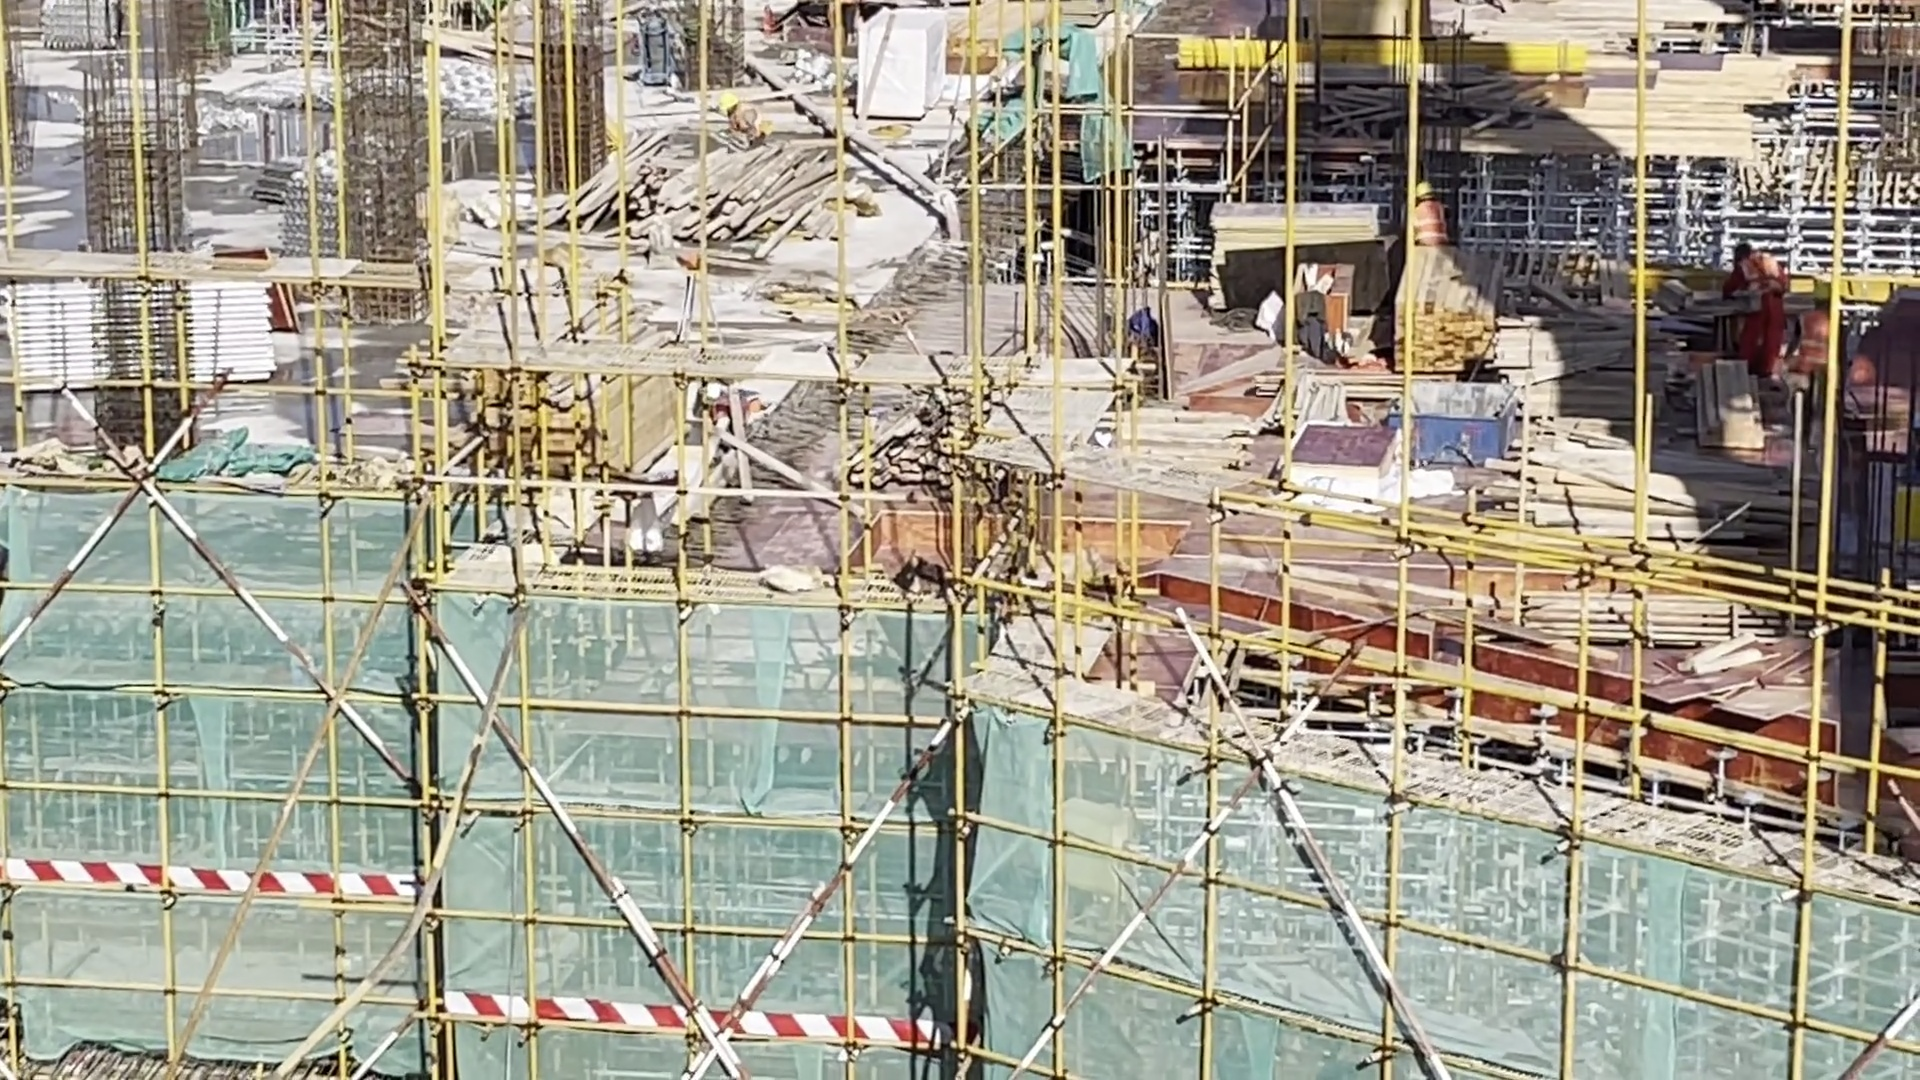board: (1663, 619, 1817, 733)
helmet: (713, 86, 740, 120), (1807, 278, 1834, 308), (699, 379, 723, 401), (1411, 185, 1435, 206)
person: (1719, 237, 1791, 384), (1795, 286, 1846, 399), (685, 379, 776, 442), (1405, 179, 1457, 269)
scaffold: (12, 282, 284, 397), (264, 157, 358, 263)
vest: (1730, 251, 1784, 313), (1798, 308, 1829, 379), (1411, 201, 1450, 254)
wood: (563, 145, 885, 281), (473, 338, 664, 489), (1506, 578, 1728, 660), (1384, 289, 1515, 387)
